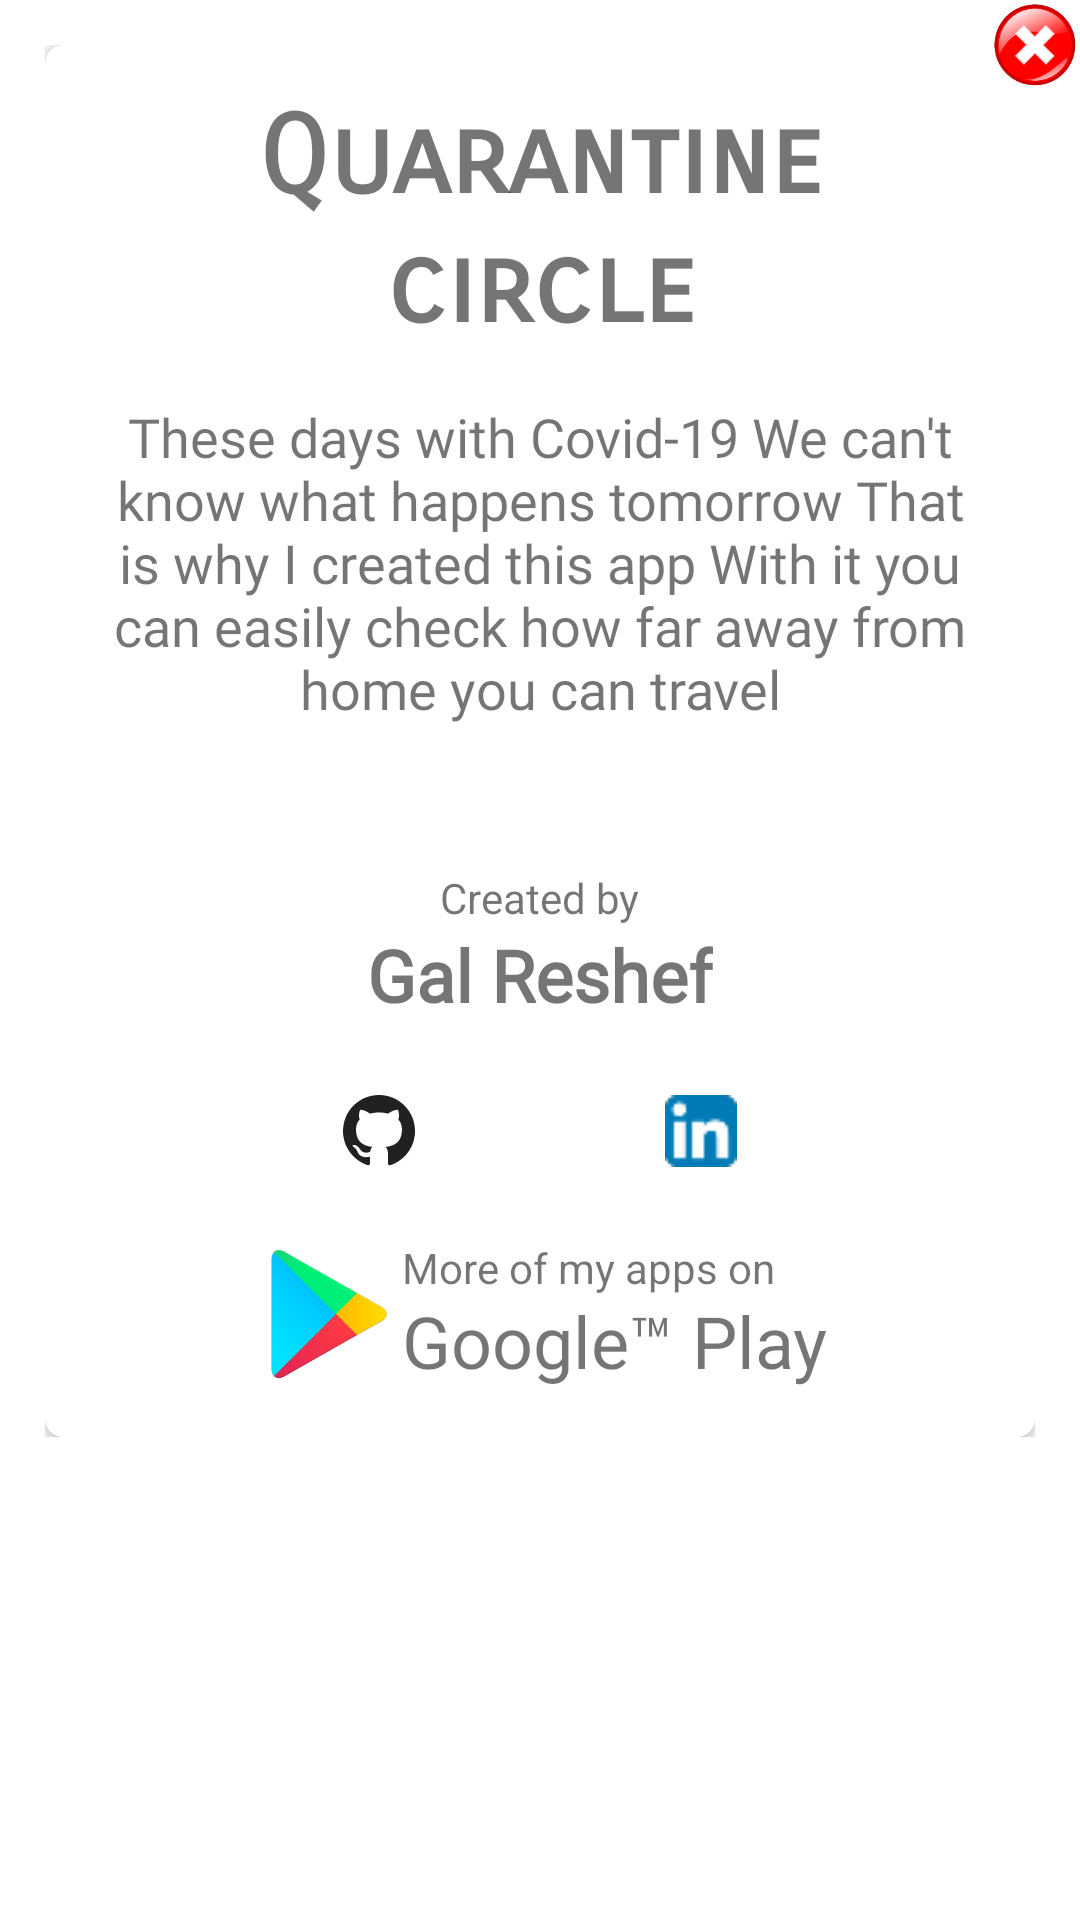

Icon bounding boxes for this 1080 × 1920 phone screenshot, format bbox(x1, y1, x2, y2):
Cancel: bbox(994, 4, 1076, 86)
